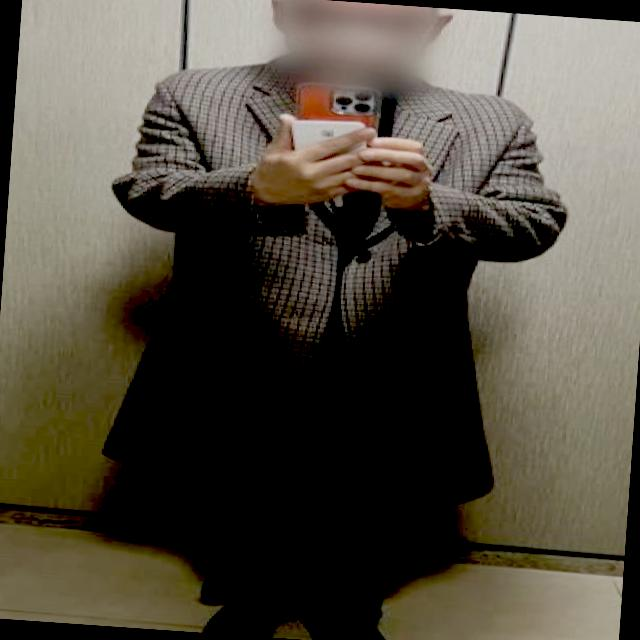coat: (86, 45, 578, 538)
